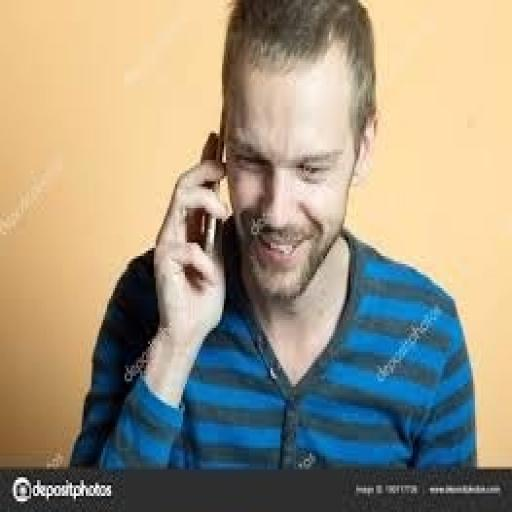calling: (66, 0, 479, 472)
